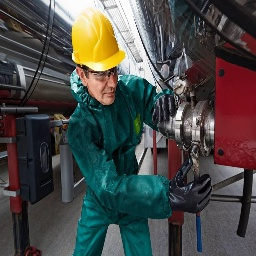helmet: (69, 7, 126, 75)
no-vest: (69, 103, 155, 219)
person: (66, 5, 165, 256)
